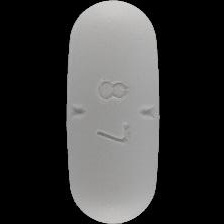31722-705: (0, 0, 224, 224)
